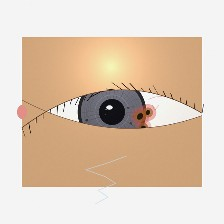foreign_body_visible: (135, 102, 161, 123)
